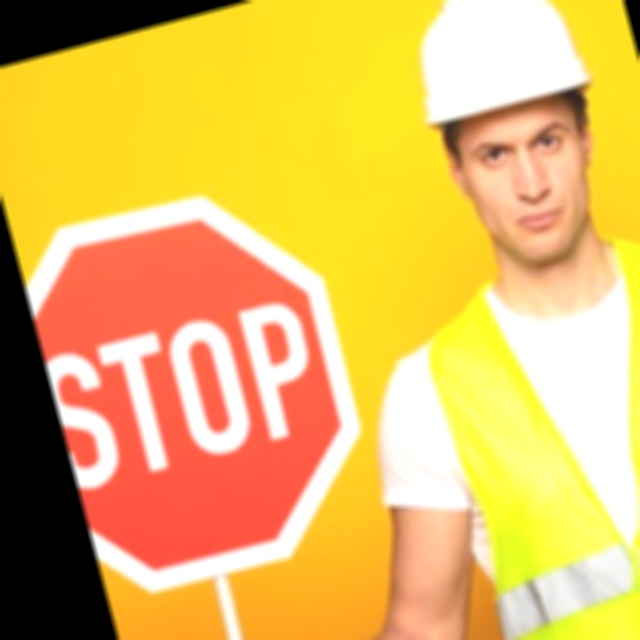Con_Casco: (396, 0, 637, 282)
Con_Chaleco: (394, 210, 640, 640)
